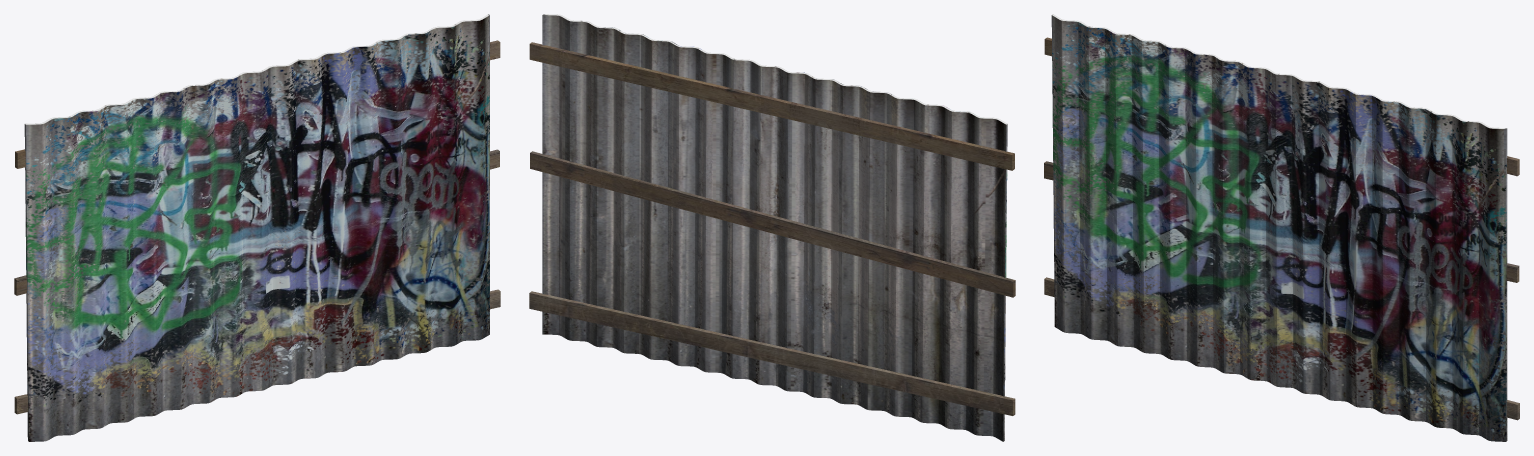
File: fence_panelstyle_b.fbx
3 renders of one model, left to right at view 1: azimuth 30°, elevation 25°; view 2: azimuth 150°, elevation 25°; view 3: azimuth 330°, elevation 25°, orthographic. The views are drawn at different scales.
Parts seen in each view (by area): view 1: fence_panelstyle_b; view 2: fence_panelstyle_b; view 3: fence_panelstyle_b.
Part boxes in pixels (<box>): fence_panelstyle_b: <box>14,14,500,441</box>; fence_panelstyle_b: <box>529,14,1015,441</box>; fence_panelstyle_b: <box>1044,14,1519,441</box>.
Size of the model in its own units: 4.03 by 2.57 by 0.0914.
2 materials, 2 textured.
